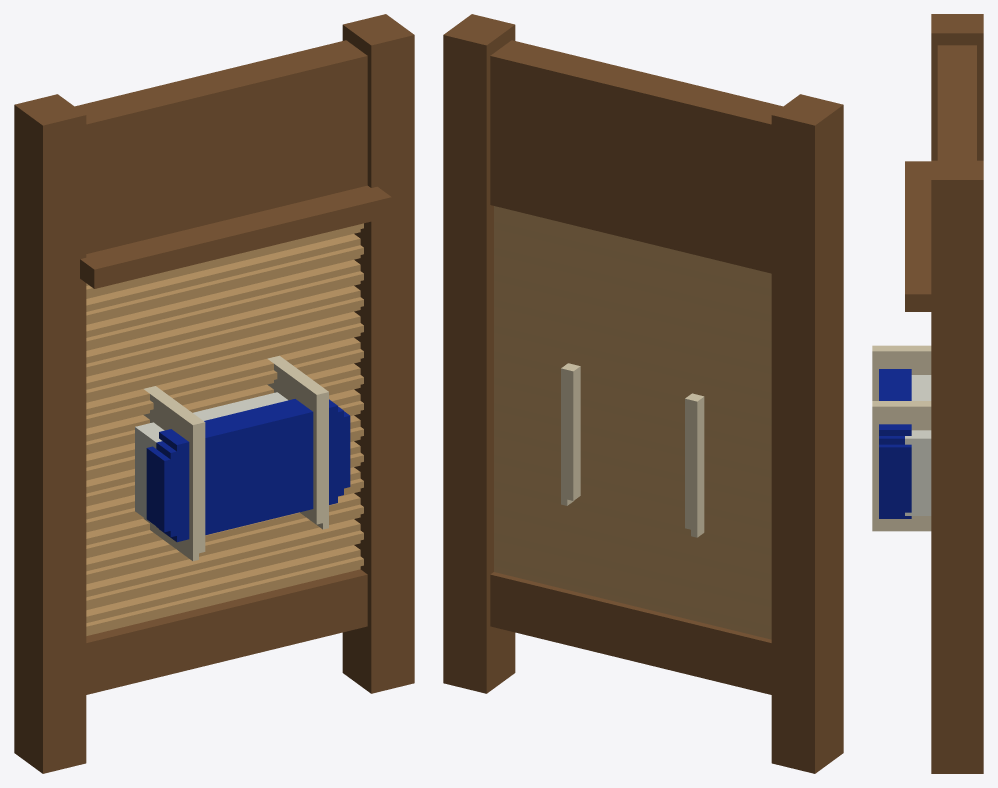
The model's file is wash_kit.glb.
3 renders of one model, left to right at view 1: azimuth 30°, elevation 25°; view 2: azimuth 150°, elevation 25°; view 3: azimuth 270°, elevation 25°, orthographic. The views are drawn at different scales.
Parts seen in each view (by area): view 1: wash_kit:compound; view 2: wash_kit:compound; view 3: wash_kit:compound.
Boxes of the visible parts, x1,y1,x2,y2 form: wash_kit:compound: [14, 14, 414, 773]; wash_kit:compound: [443, 14, 843, 773]; wash_kit:compound: [872, 14, 983, 773].
Bounding box in the file's own units: 0.24 × 0.4 × 0.068.
